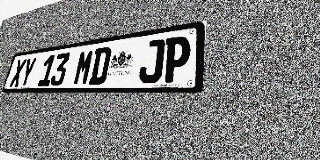1: (37, 54, 57, 86)
3: (49, 52, 70, 86)
D: (88, 46, 112, 85)
J: (138, 39, 166, 83)
M: (72, 49, 95, 85)
P: (162, 35, 192, 83)
X: (9, 59, 27, 87)
Y: (19, 57, 37, 87)
